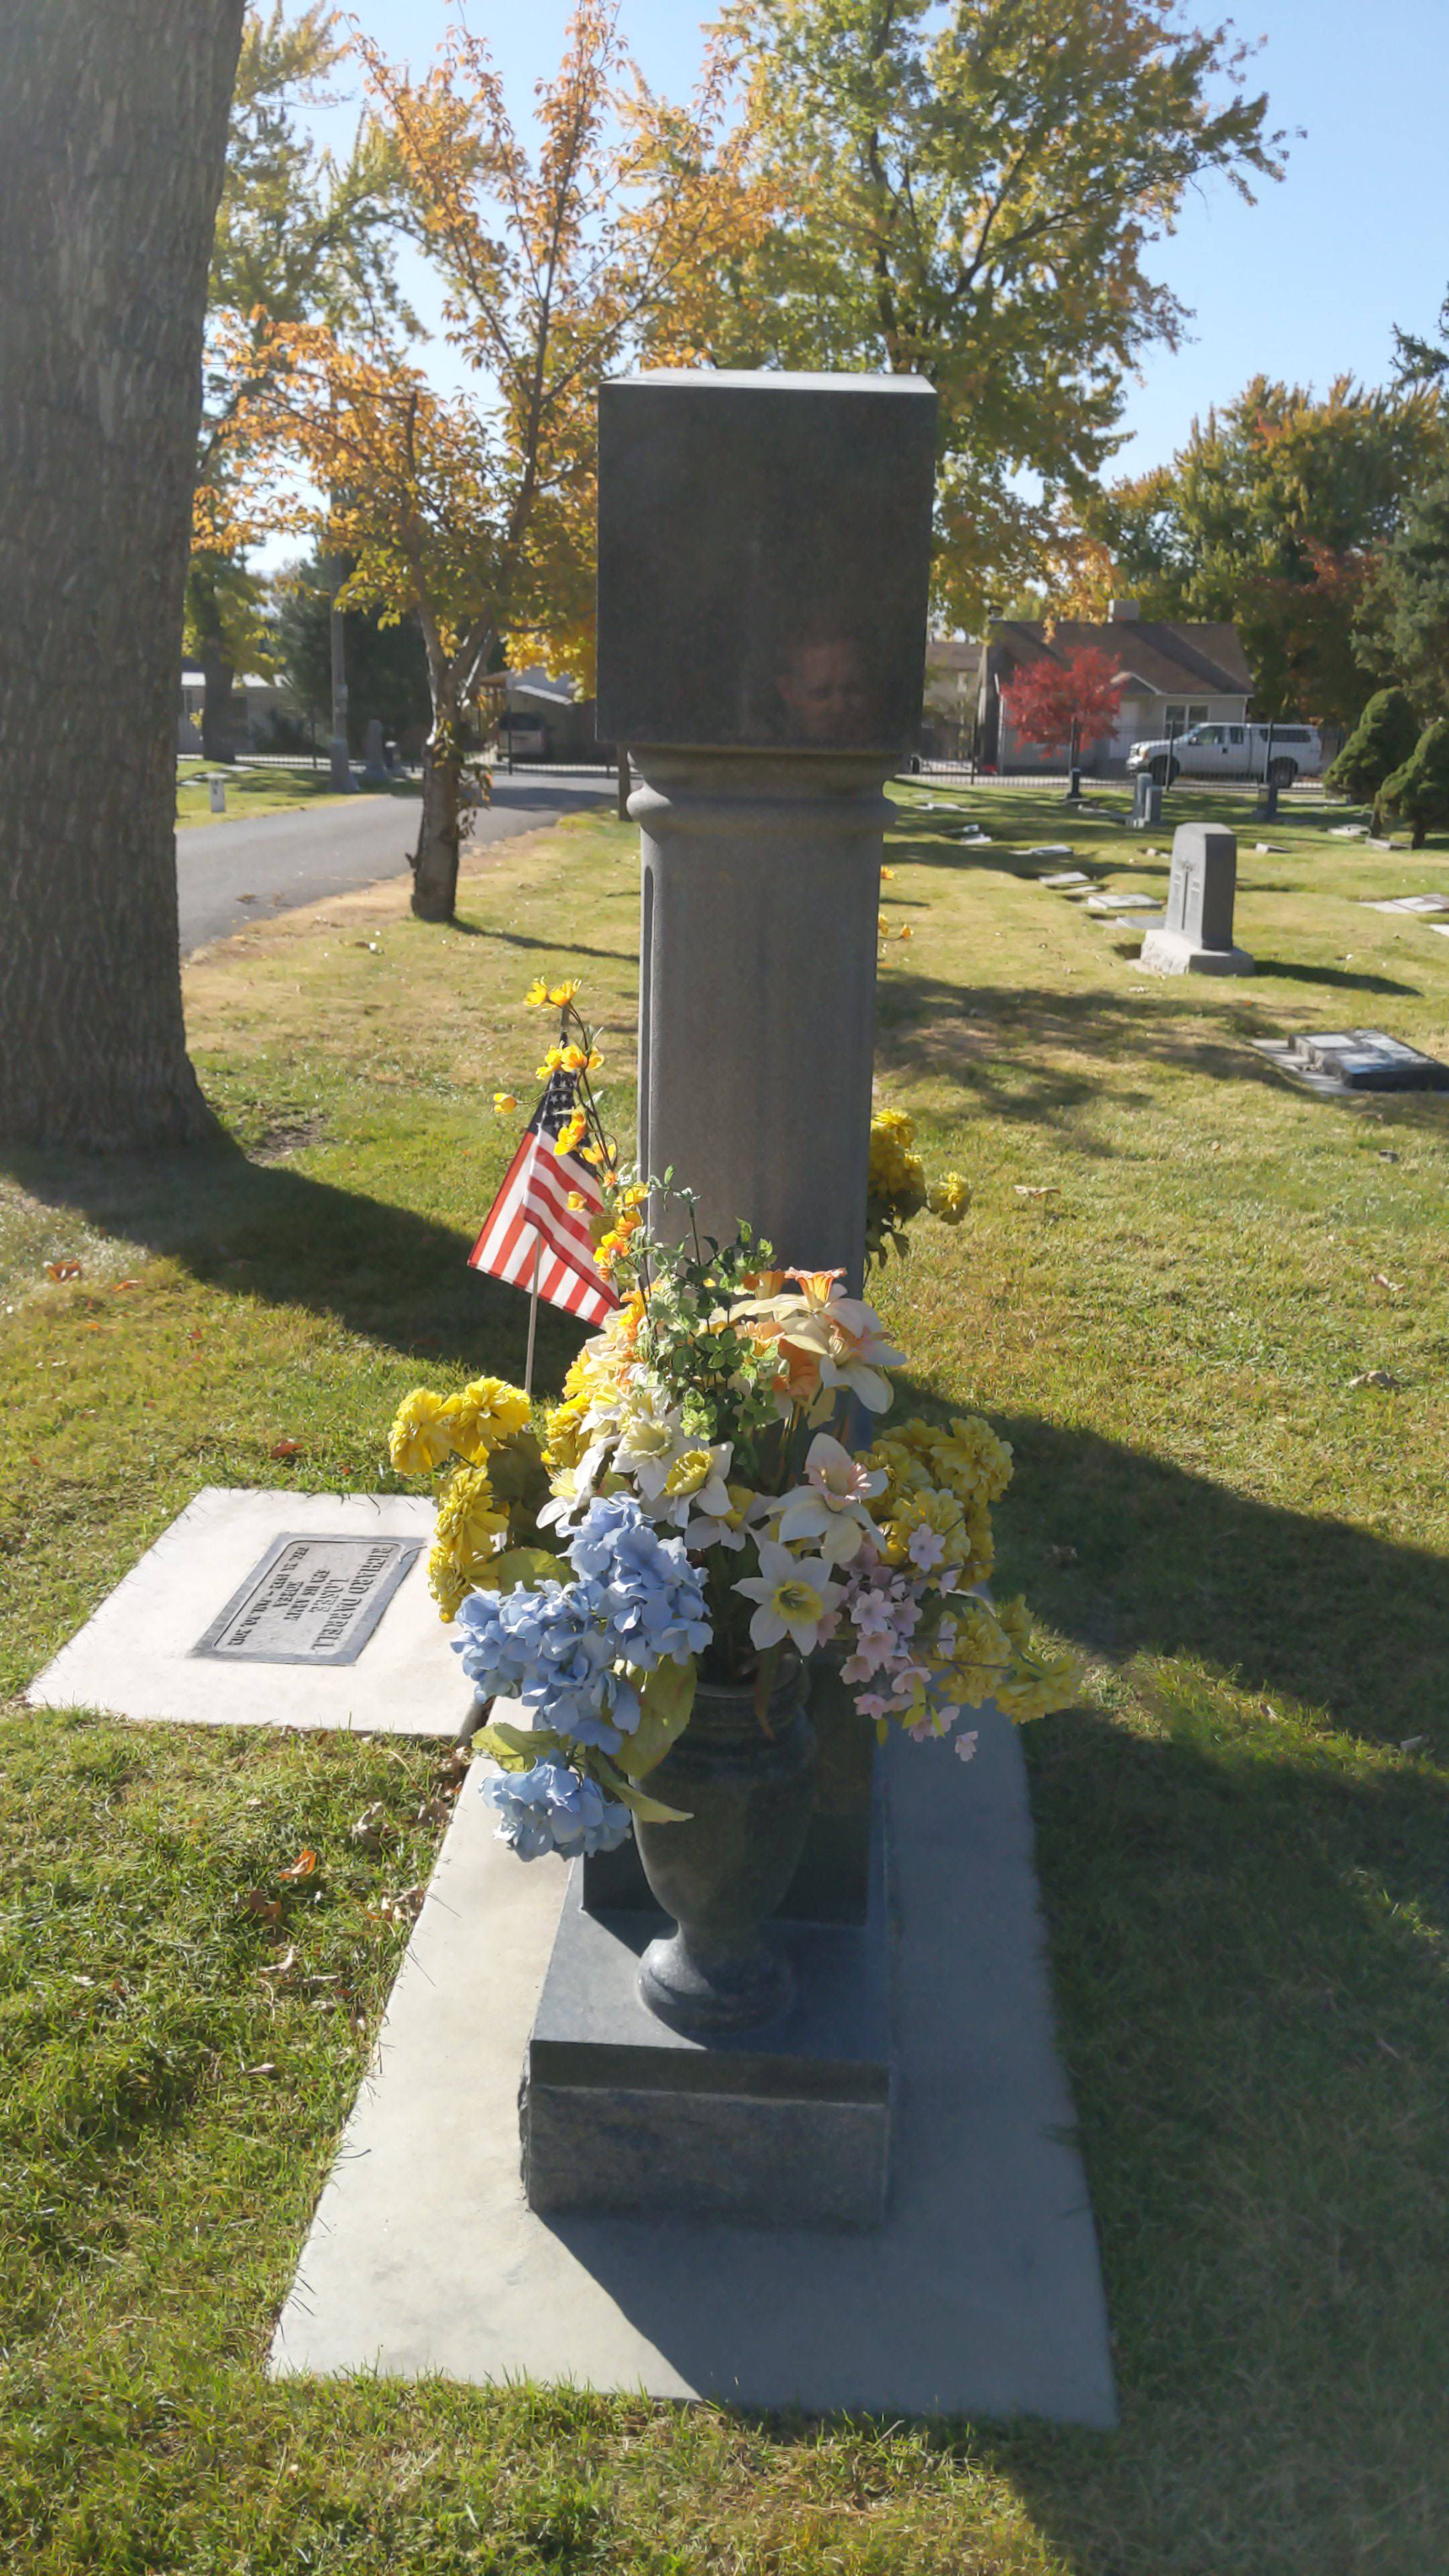obelisk: (570, 379, 916, 1560)
